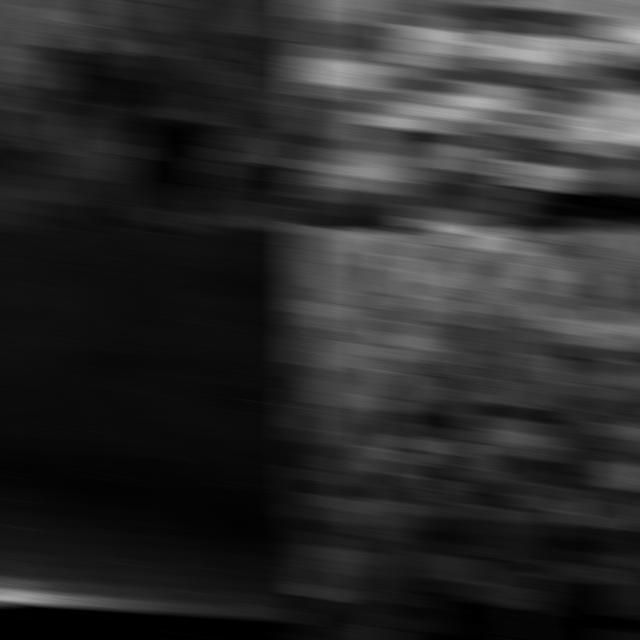AirbagV2: (290, 229, 640, 640), (0, 229, 309, 611), (290, 0, 640, 231), (0, 0, 309, 231)
